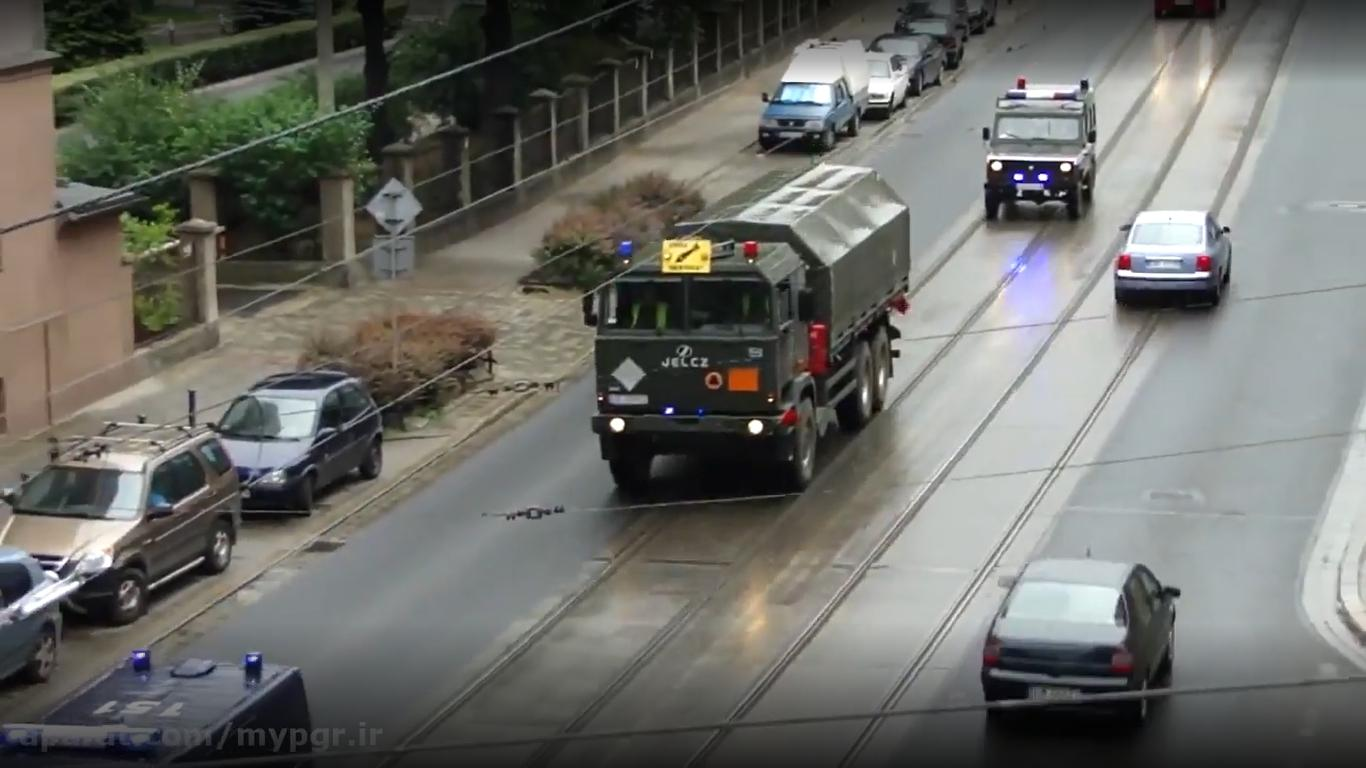truck: (582, 154, 916, 498)
